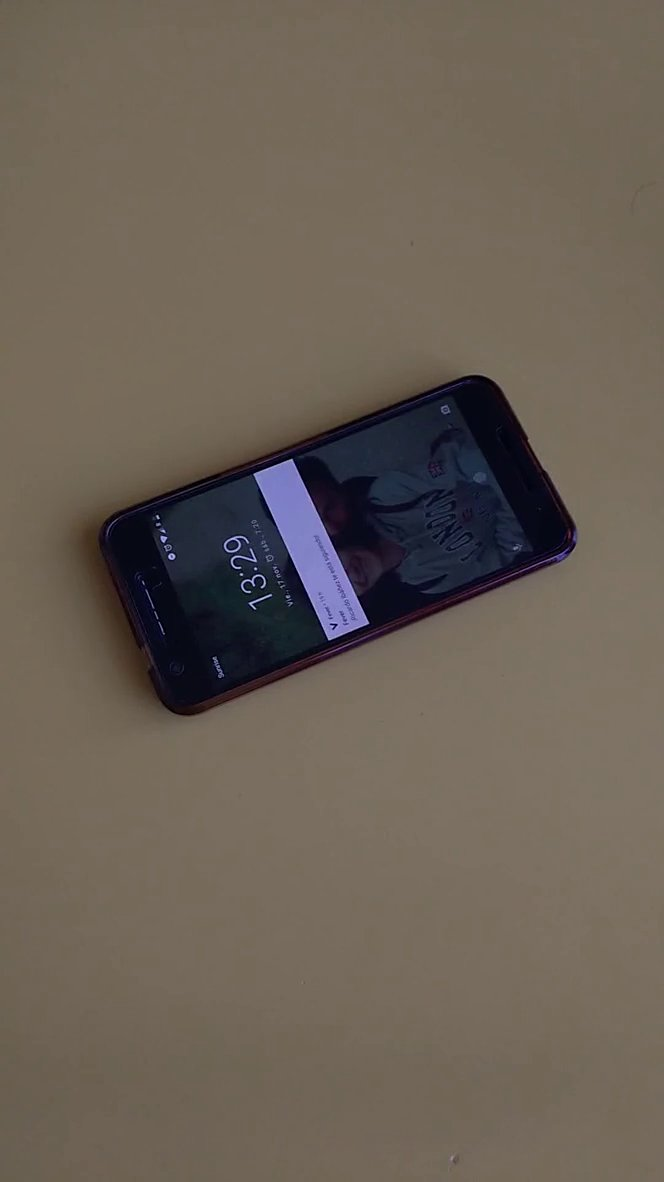phone: (77, 364, 594, 730)
